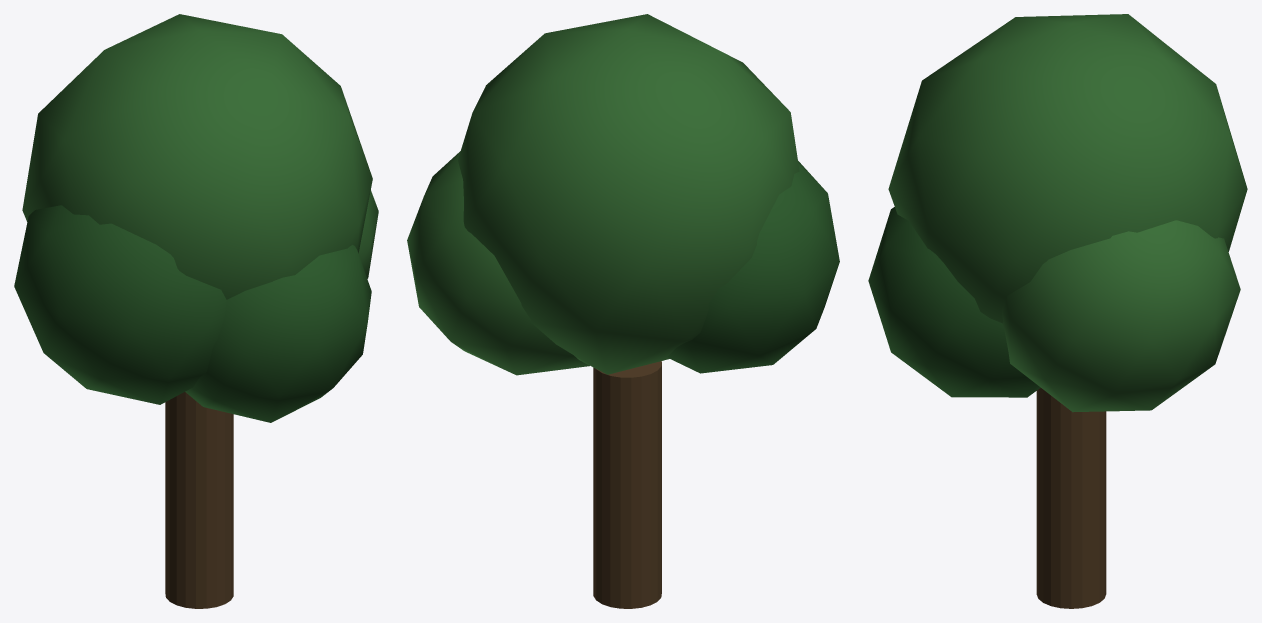
The model's file is tree_oak_02.glb.
The picture shows the model from 3 angles, left to right: view 1: azimuth 30°, elevation 25°; view 2: azimuth 150°, elevation 25°; view 3: azimuth 270°, elevation 25°; orthographic projection.
Parts seen in each view (by area): view 1: Cylinder; view 2: Cylinder; view 3: Cylinder.
Part boxes in pixels (x1,y1,x2,y2): Cylinder: [14, 14, 378, 608]; Cylinder: [407, 14, 839, 608]; Cylinder: [868, 14, 1247, 608].
Size of the model in its own units: 1.09 by 1.63 by 0.9797.
